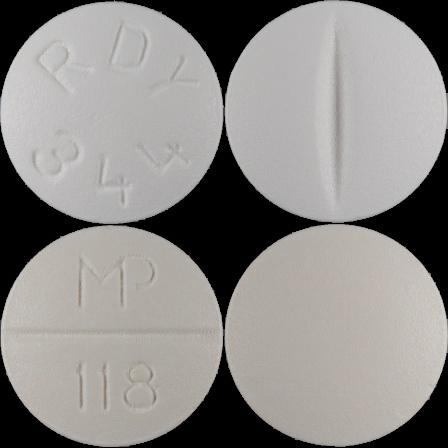66116-353: (0, 0, 224, 224)
